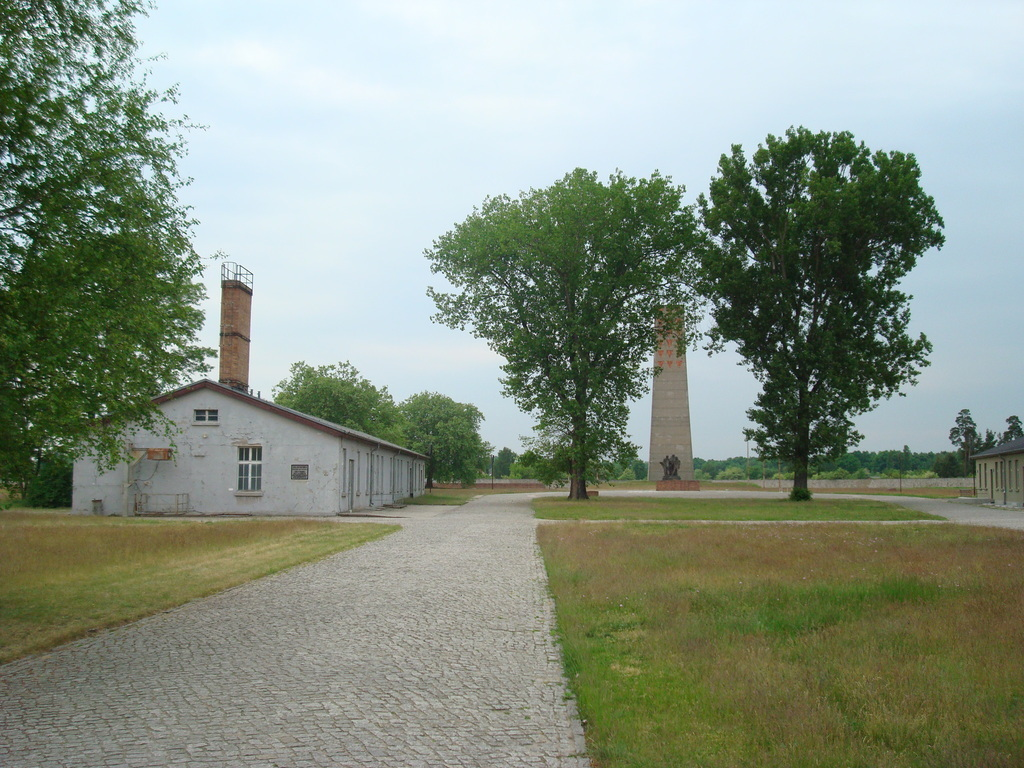tree: (1, 1, 219, 508), (691, 123, 949, 501), (421, 165, 709, 501)
